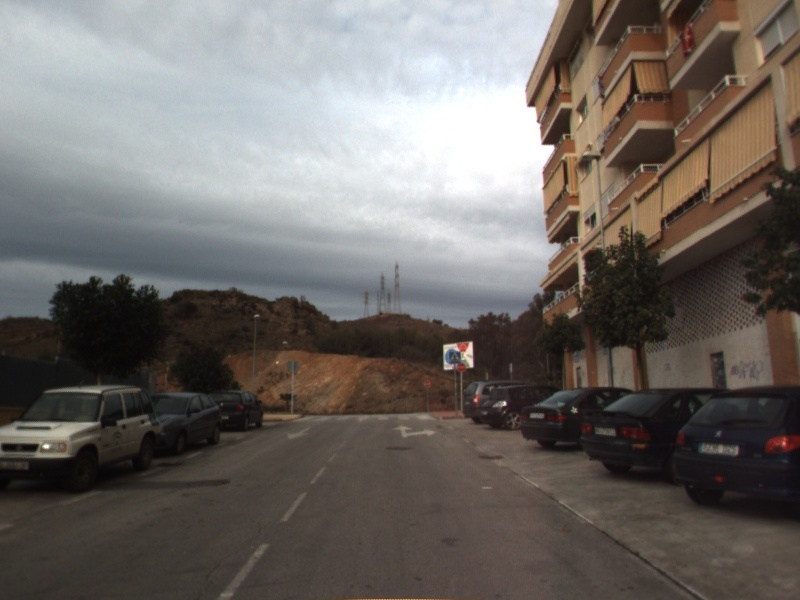STRAIGHT_RIGHT: (391, 423, 439, 440)
